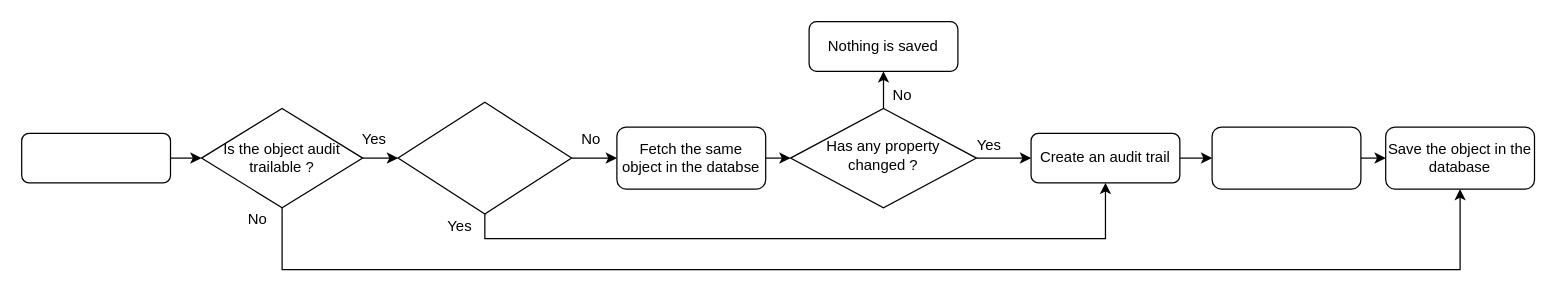
This 1556x301 diagram has some shape labels left out. The centre of each missing label's shape, as x and y in pixels:
"An object is saved to the database" goes at point 95,157.
"Is the object new ?" goes at point 484,157.
"Save the audit trail to the database" goes at point 1286,157.
